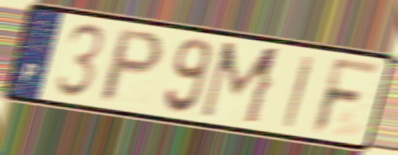3: (54, 21, 108, 100)
9: (163, 36, 215, 117)
F: (308, 55, 384, 138)
I: (280, 52, 318, 131)
M: (196, 39, 286, 129)
P: (95, 26, 168, 106)
